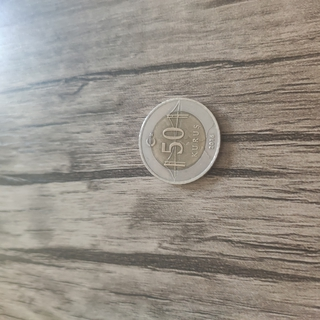50KURUS: (137, 96, 222, 186)
